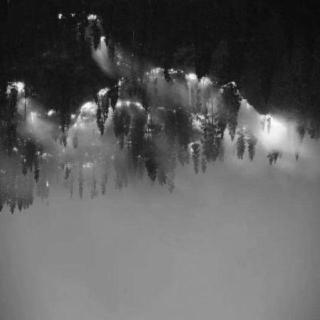Fire: (145, 65, 288, 188)
